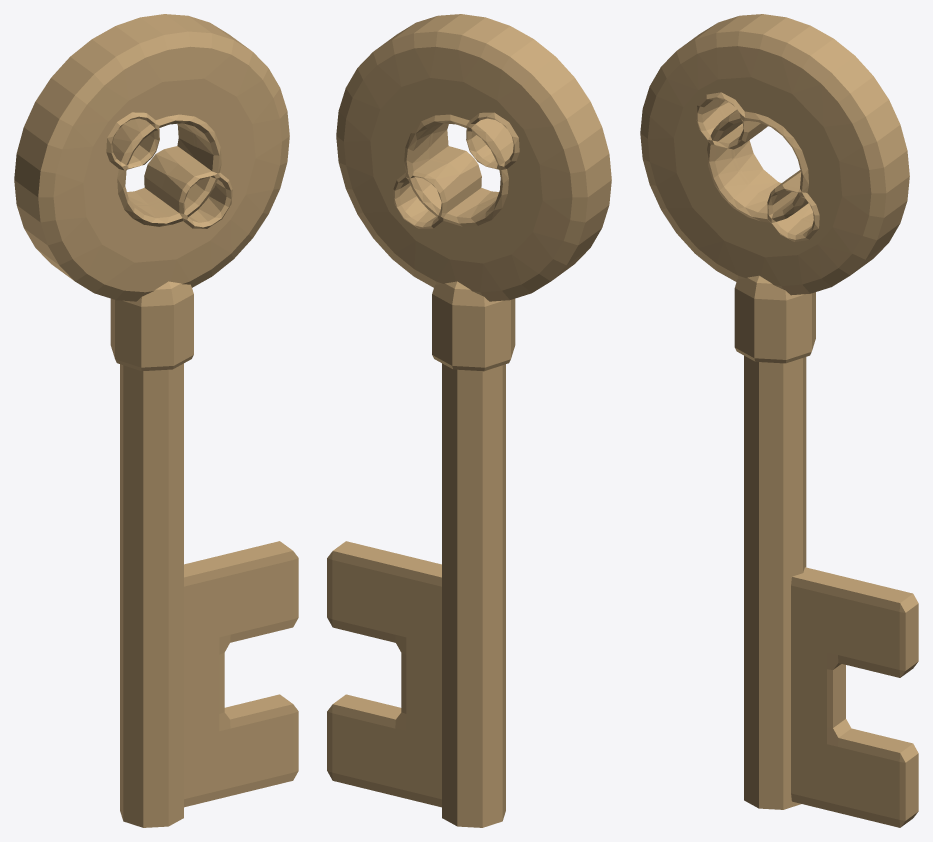
The model's file is theme02_key01.fbx.
The picture shows the model from 3 angles, left to right: view 1: azimuth 30°, elevation 25°; view 2: azimuth 150°, elevation 25°; view 3: azimuth 330°, elevation 25°; orthographic projection. The views are drawn at different scales.
Visible parts, largest first — view 1: key_01head.002; view 2: key_01head.002; view 3: key_01head.002.
Boxes of the visible parts, bbox=[...] form: key_01head.002: bbox=[14, 14, 298, 827]; key_01head.002: bbox=[327, 14, 611, 827]; key_01head.002: bbox=[640, 14, 918, 827].
Bounding box in the file's own units: 10.64 × 30.13 × 2.98.
